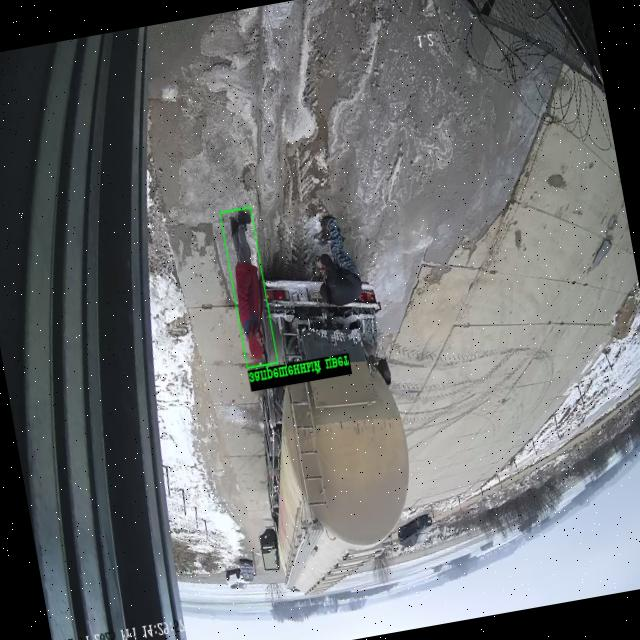Person: (317, 215, 362, 306)
Red uniform: (230, 215, 263, 360)
